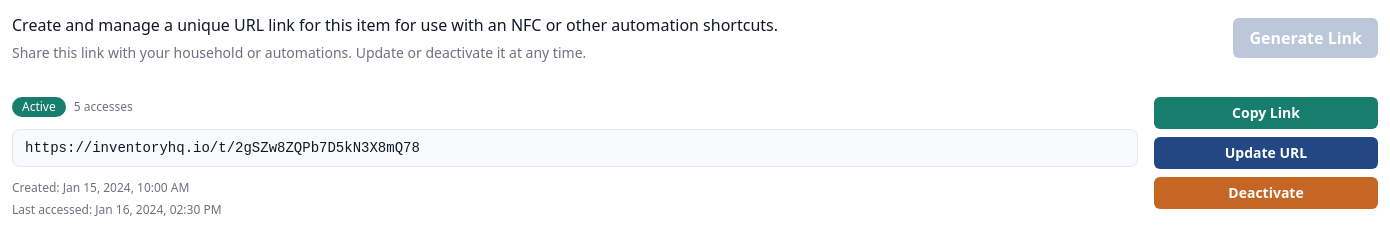
Test: NFCUrlManager Component › Copy to Clipboard (T045) › should copy URL to clipboard
The image size is (1390, 233).
Expected: the text "Active" is shown, [12,97,66,117]
Click the button "Copy Link": (1266, 113) [1154,97,1378,129]
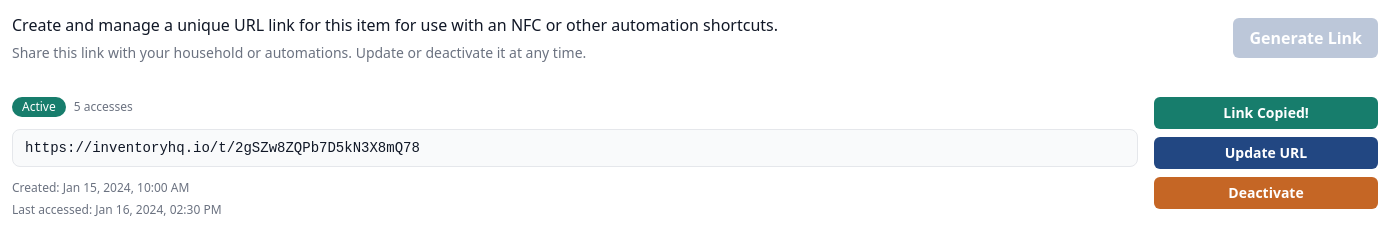
Expected: the text "Link Copied!" is shown, [1223,103,1309,123]
